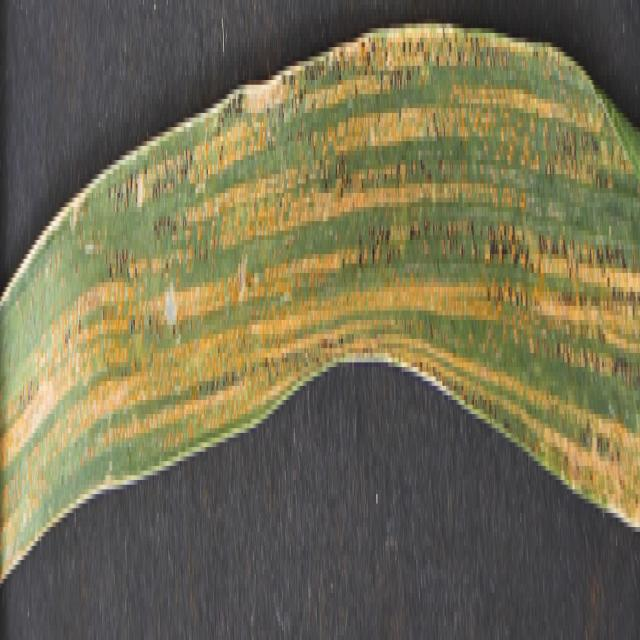leaf rust: (1, 5, 638, 579)
